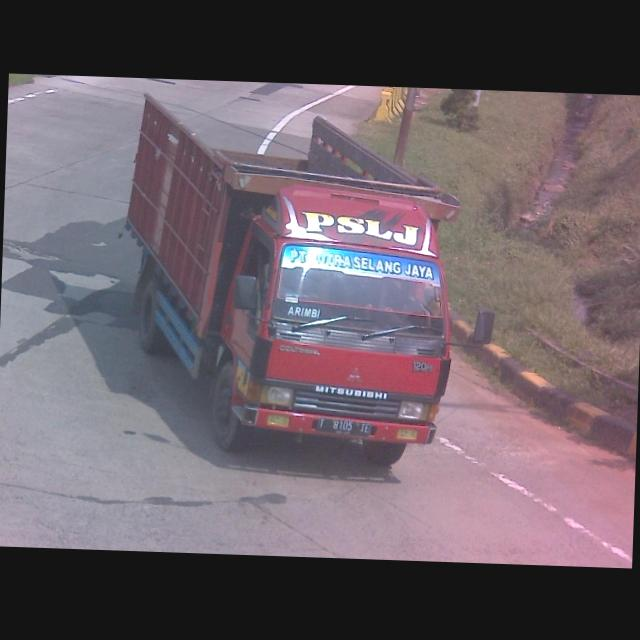plate: (314, 414, 372, 438)
